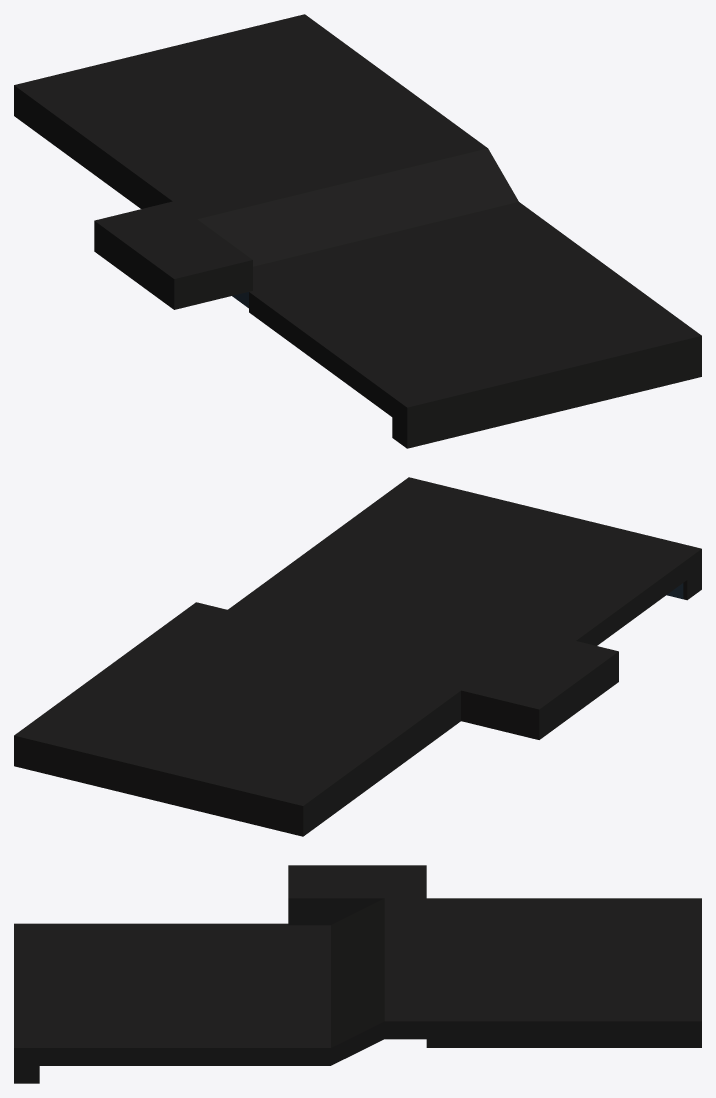
The model's file is __fake_roof.fbx.
3 views of the same model, one above another, from view 1: azimuth 30°, elevation 25°; view 2: azimuth 150°, elevation 25°; view 3: azimuth 270°, elevation 25° (orthographic). The views are drawn at different scales.
Visible parts, largest first — view 1: fake_roof, fake_roof_stairs; view 2: fake_roof, fake_roof_stairs; view 3: fake_roof, fake_roof_stairs.
Boxes of the visible parts, bbox=[...] form: fake_roof: bbox=[14, 14, 701, 448]; fake_roof_stairs: bbox=[94, 201, 252, 309]; fake_roof: bbox=[14, 477, 701, 836]; fake_roof_stairs: bbox=[461, 632, 618, 739]; fake_roof: bbox=[14, 898, 701, 1083]; fake_roof_stairs: bbox=[288, 865, 426, 925].
Bounding box in the file's own units: 37.6 × 70 × 7.
